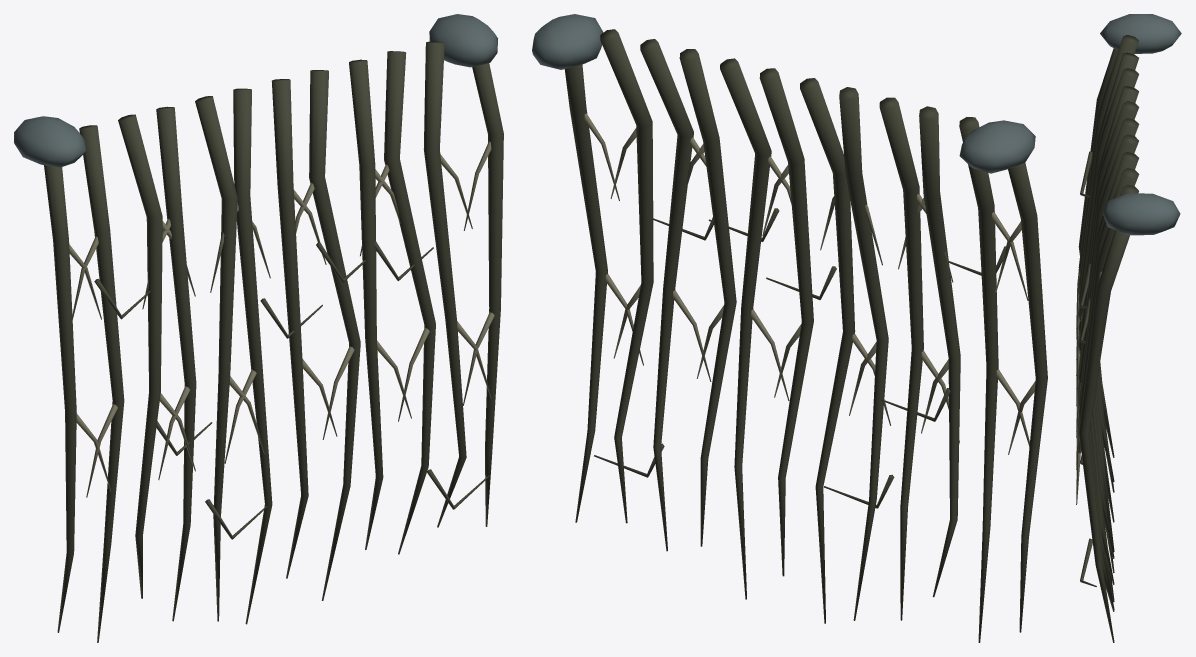
The model's file is curtain-intact.glb.
3 views of the same model, side by side, from view 1: azimuth 30°, elevation 25°; view 2: azimuth 150°, elevation 25°; view 3: azimuth 270°, elevation 25° (orthographic). The views are drawn at different scales.
Parts seen in each view (by area): view 1: Surface; view 2: Surface; view 3: Surface.
Part boxes in pixels (bbox=[...]): Surface: bbox=[14, 14, 503, 642]; Surface: bbox=[532, 14, 1047, 642]; Surface: bbox=[1076, 14, 1181, 642].
Bounding box in the file's own units: 1.95 × 2.13 × 0.4261.
